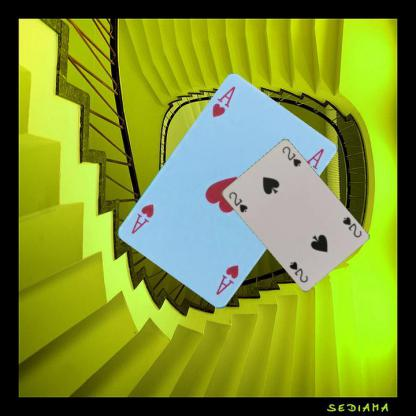2s: (226, 189, 249, 214), (340, 214, 363, 239)
Ah: (209, 83, 237, 119), (213, 262, 240, 297)
